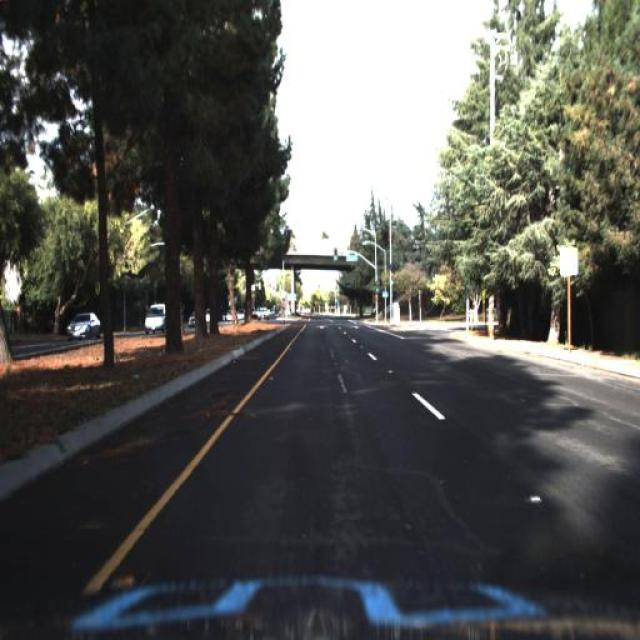car: (64, 305, 100, 345), (144, 303, 168, 335)
trafficLight-GreenLeft: (332, 236, 339, 266)
